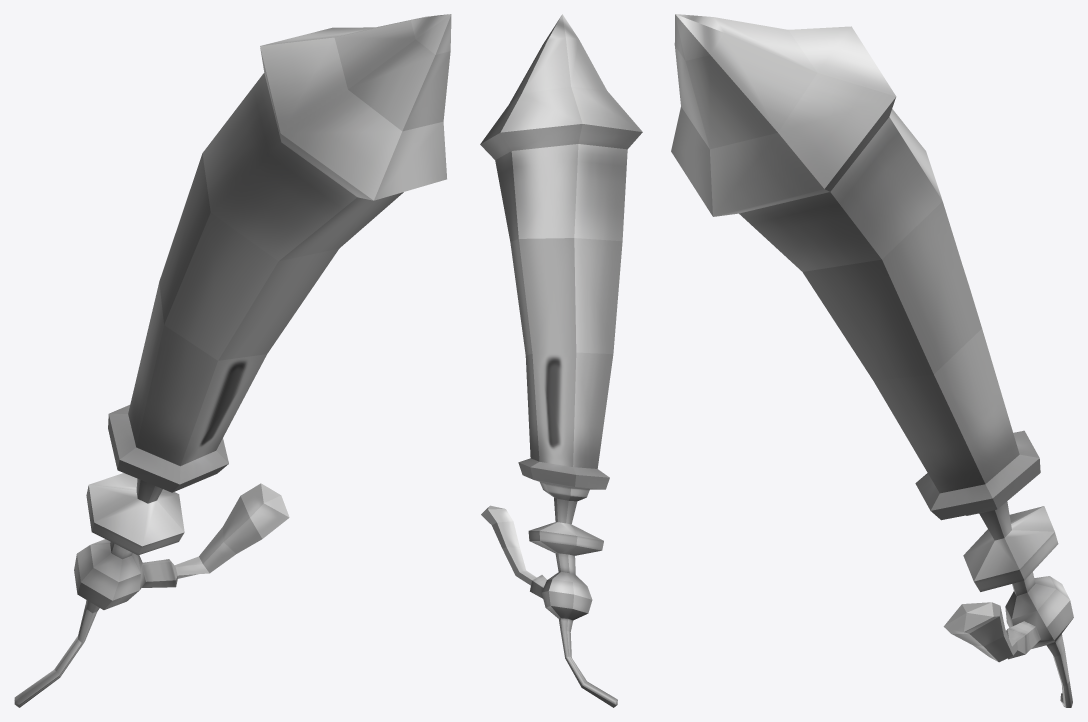
The model's file is whistlePart.fbx.
3 renders of one model, left to right at view 1: azimuth 30°, elevation 25°; view 2: azimuth 150°, elevation 25°; view 3: azimuth 270°, elevation 25°, orthographic. The views are drawn at different scales.
Visible parts, largest first — view 1: whistlePart; view 2: whistlePart; view 3: whistlePart.
Boxes of the visible parts, x1,y1,x2,y2 form: whistlePart: [14, 14, 451, 707]; whistlePart: [480, 14, 642, 707]; whistlePart: [671, 14, 1073, 707].
Size of the model in its own units: 0.0582 by 0.1411 by 0.0625.
